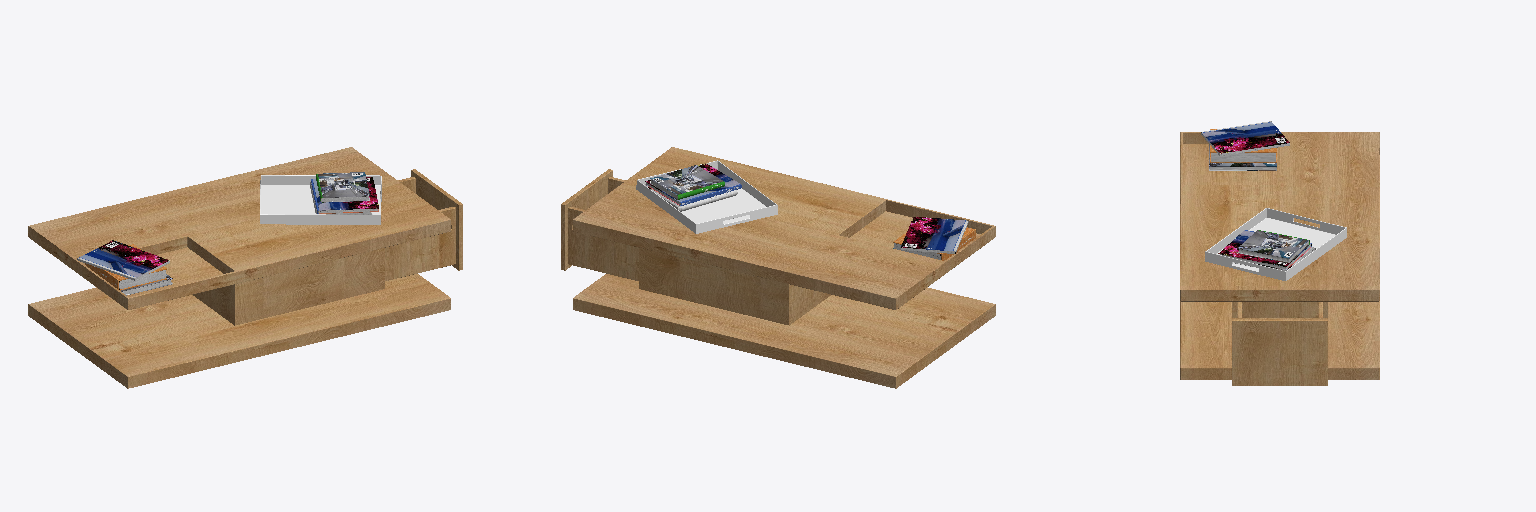
The picture shows the model from 3 angles: view 1: azimuth 30°, elevation 25°; view 2: azimuth 150°, elevation 25°; view 3: azimuth 270°, elevation 25°; orthographic projection.
Visible parts, largest first — view 1: coffee-table; view 2: coffee-table; view 3: coffee-table.
Boxes of the visible parts, x1=… form: coffee-table: x1=28, y1=147, x2=462, y2=388; coffee-table: x1=561, y1=147, x2=995, y2=388; coffee-table: x1=1180, y1=121, x2=1379, y2=385.
Size of the model in its own units: 2.06 by 0.571 by 0.9726.
Materials: 8 (5 with a texture image).